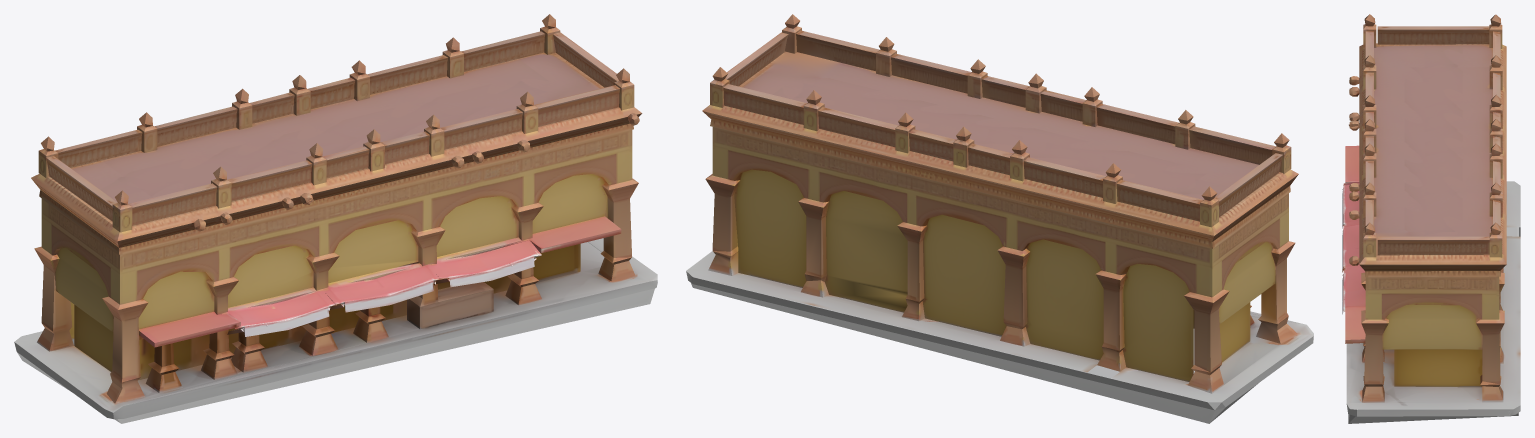
The model's file is CasaMerecado.glb.
3 views of the same model, side by side, from view 1: azimuth 30°, elevation 25°; view 2: azimuth 150°, elevation 25°; view 3: azimuth 270°, elevation 25° (orthographic). The views are drawn at different scales.
Parts seen in each view (by area): view 1: LoricaCC; view 2: LoricaCC; view 3: LoricaCC.
Part boxes in pixels (left/top/right/bottom): LoricaCC: left=14, top=14, right=657, bottom=423; LoricaCC: left=686, top=14, right=1313, bottom=423; LoricaCC: left=1342, top=14, right=1520, bottom=423.
Size of the model in its own units: 1.09 by 0.4339 by 0.357.
1 material, 1 textured.
